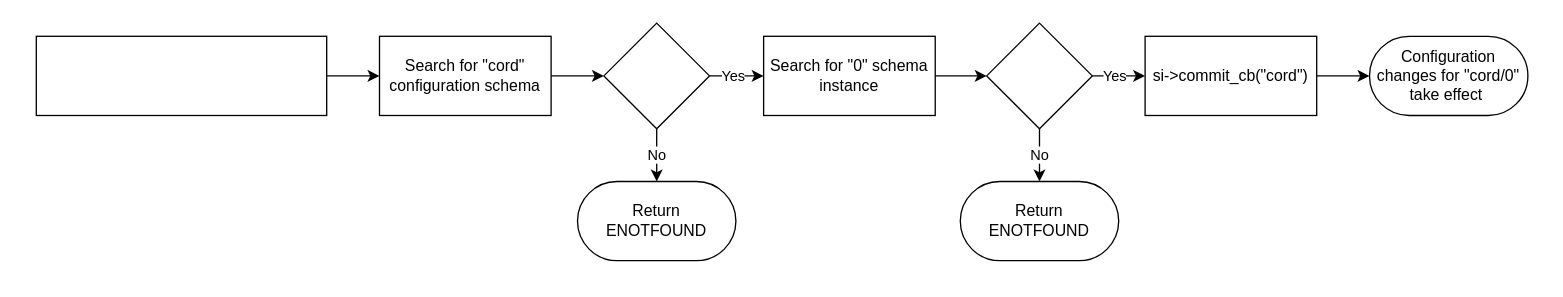
This 1563x297 diagram has some shape labels left out. Each missing label, with the centre of its shape:
Found cs: point 656,75
Found si: point 1038,75
registry_commit("cord/0"): point 181,75
